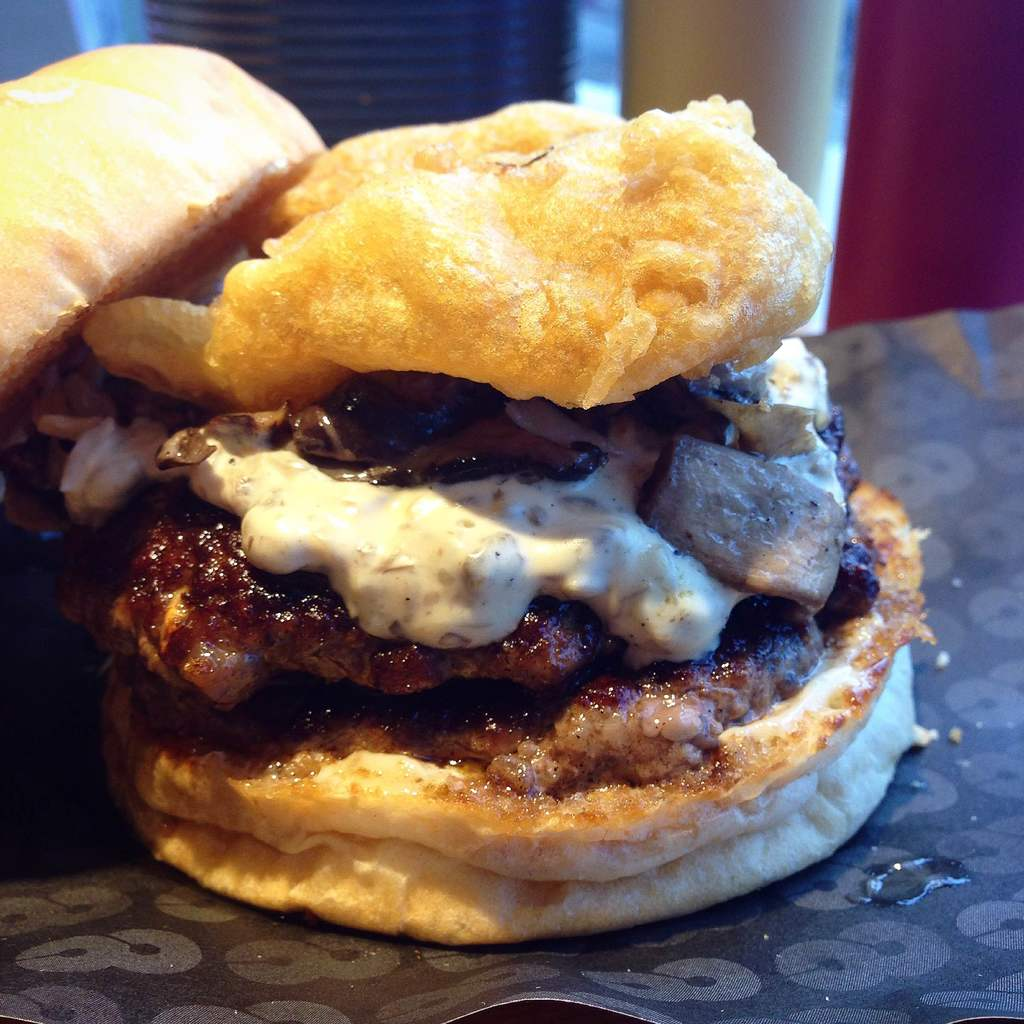Hamburger: (0, 42, 938, 952)
